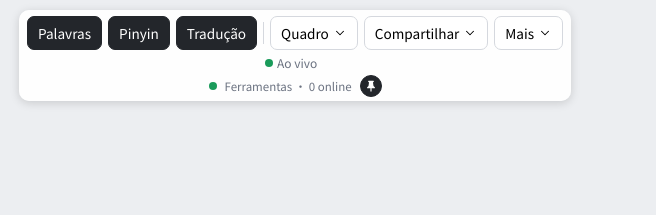
Test: barra do topo enxuta, com menus › menu Compartilhar mostra o aviso de que o link de admin não vai aos alunos
The width and height of the screenshot is (656, 215).
Click the button "Compartilhar".
click(426, 33)  # box [364,16,488,50]
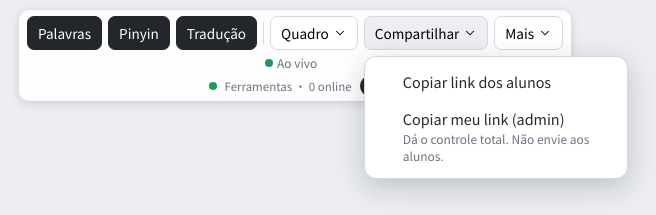
Check: the text "Copiar link dos alunos" is shown, box [403,71,551,92]
Check: the text "Copiar meu link (admin)" is shown, box [403,108,565,129]
Check: the text "Não envie aos alunos" is shown, box [403,130,589,164]
